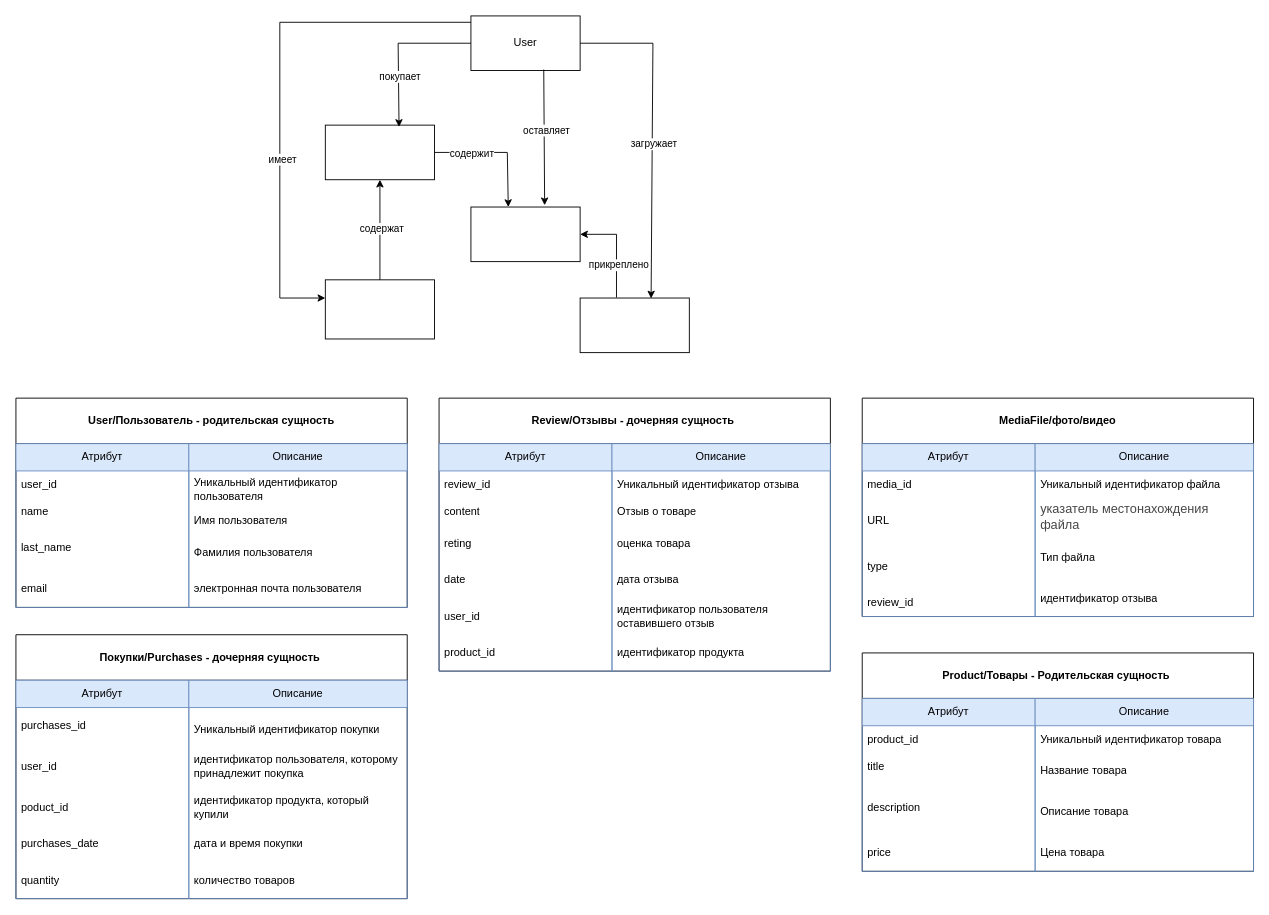
Image size: 1269x915. Some labels were removed from this diagram. The shapes that lost their labels are listed below. From the top down, each one's centre as x and y in pixels, then its label:
(x=379, y=152): товары
(x=525, y=234): отзывы
(x=379, y=309): покупки
(x=634, y=325): фото/видео
